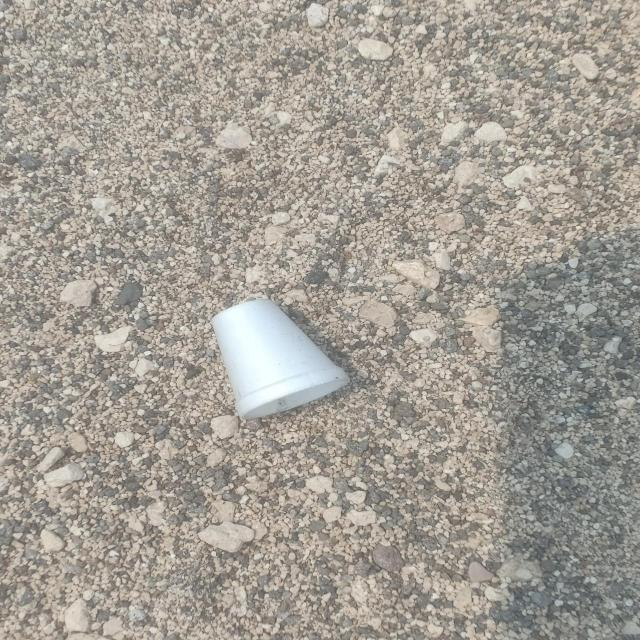styrofoam_waste: (211, 299, 353, 422)
